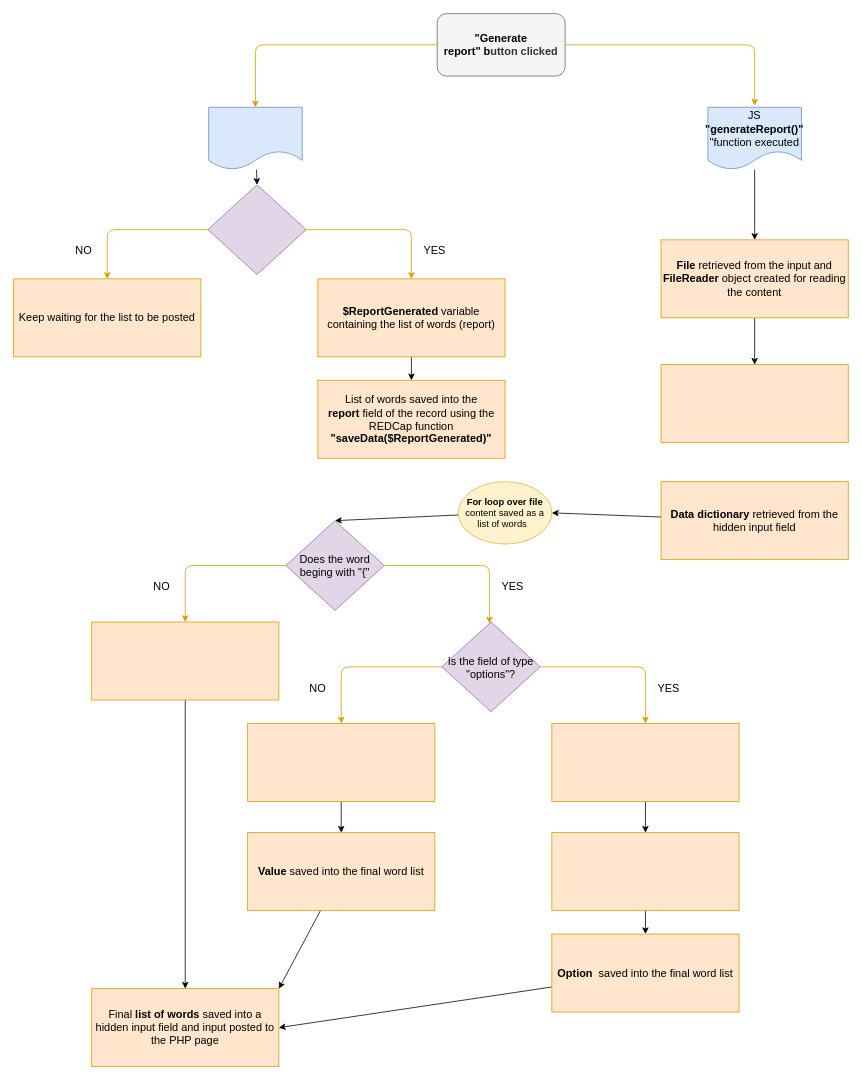
Image size: 862x1080. Some labels were removed from this diagram. Here are the shapes that lost their labels. From the top down, the centre of each, then its label:
At pixel 255 138: "ExternalModule PHP executed".
At pixel 256 229: "Is the list of words posted?".
At pixel 754 403: "Record field's names and values retrieved from the hidden input fields".
At pixel 185 660: "Word directly saved into the final word list".
At pixel 341 762: "Word replaced by the JSON value related to the field (word) name".
At pixel 645 762: "Field (word) options obtained from the dictionary and saved as a list".
At pixel 645 871: "Word replaced by data and data converted into an option from the option's list".
